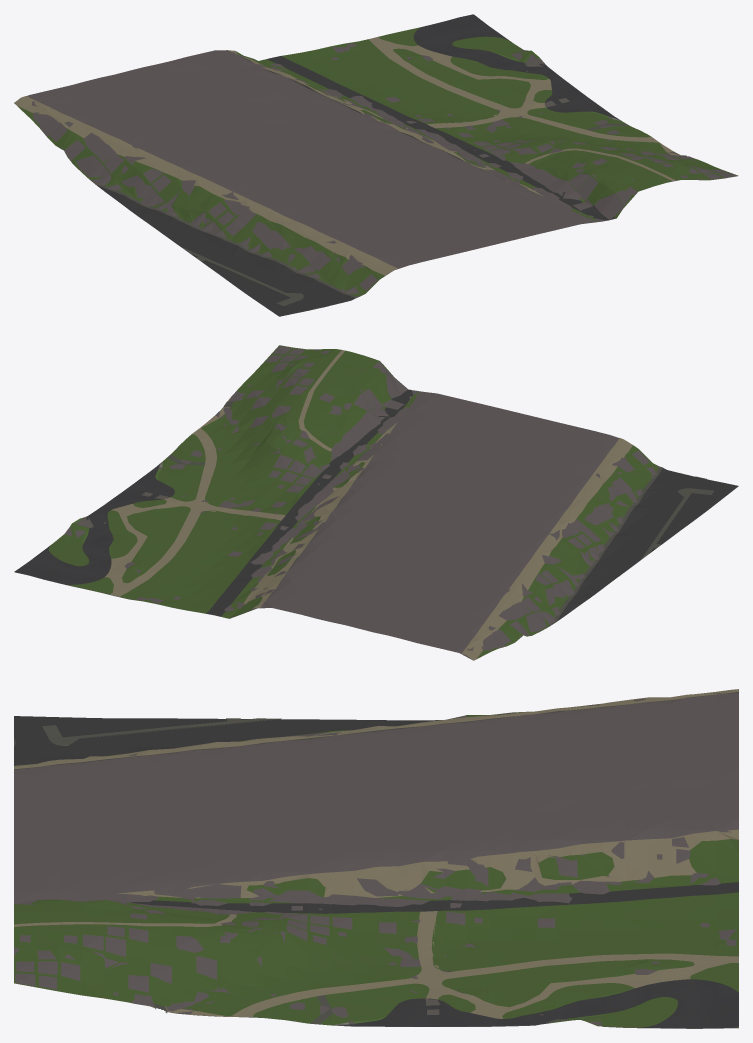
3 renders of one model, top to bottom at view 1: azimuth 30°, elevation 25°; view 2: azimuth 150°, elevation 25°; view 3: azimuth 270°, elevation 25°, orthographic. The views are drawn at different scales.
Parts seen in each view (by area): view 1: c_m08_m18, append:c_m08_m18; view 2: c_m08_m18, append:c_m08_m18; view 3: c_m08_m18, append:c_m08_m18.
Boxes of the visible parts, left/top/right/bottom form: c_m08_m18: left=14, top=27, right=738, bottom=316; append:c_m08_m18: left=415, top=14, right=621, bottom=120; c_m08_m18: left=48, top=345, right=738, bottom=660; append:c_m08_m18: left=14, top=462, right=168, bottom=585; c_m08_m18: left=14, top=689, right=738, bottom=1027; append:c_m08_m18: left=335, top=980, right=738, bottom=1028.
Bounding box in the file's own units: 128 × 11.95 × 128.
